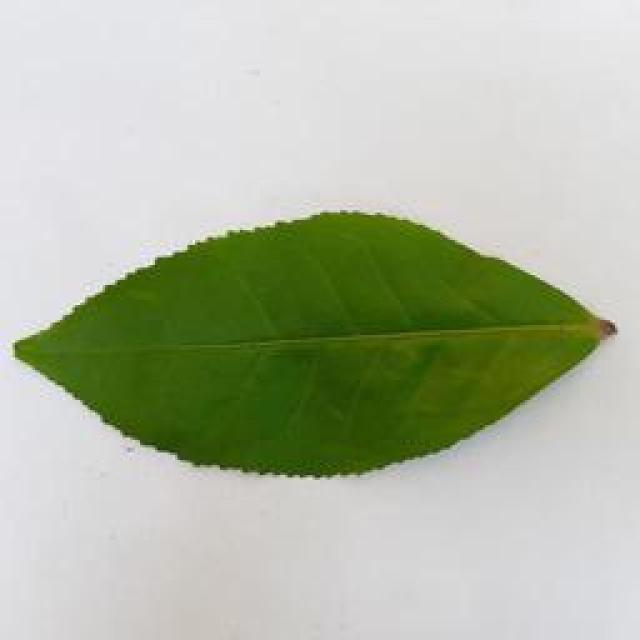Healthy: (10, 197, 623, 484)
